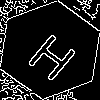H: (25, 25, 85, 83)
